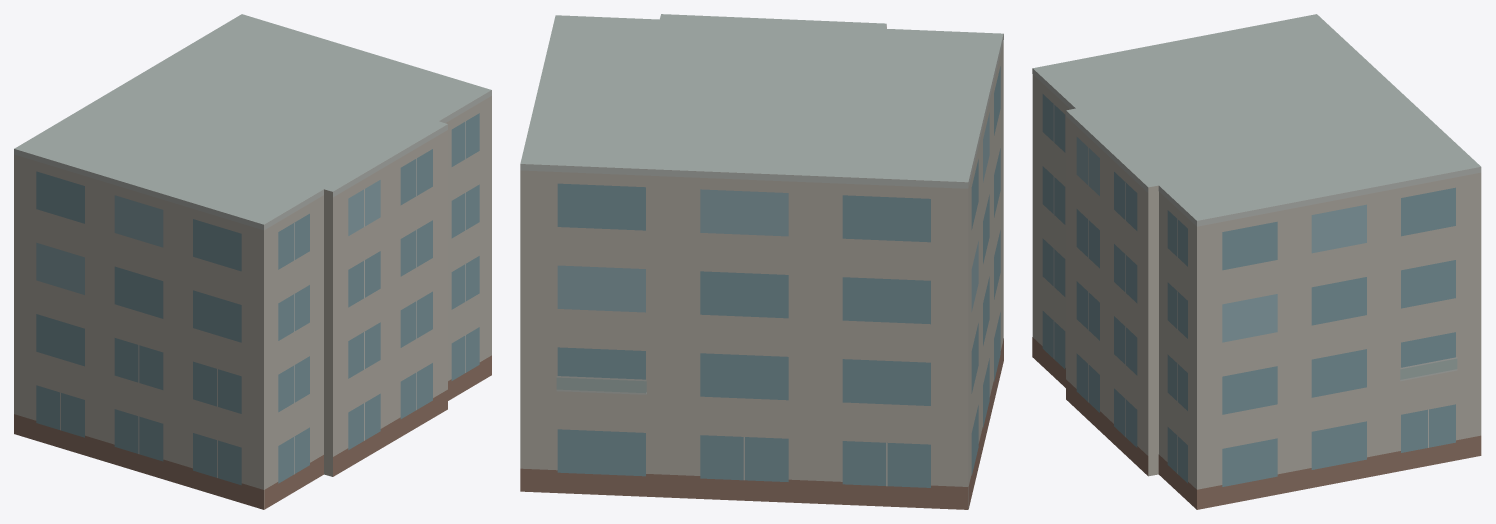
File: survey-upis-32741317.glb
The picture shows the model from 3 angles, left to right: view 1: azimuth 30°, elevation 25°; view 2: azimuth 150°, elevation 25°; view 3: azimuth 270°, elevation 25°; orthographic projection. The views are drawn at different scales.
Parts seen in each view (by area): view 1: survey-upis-32741317.tmp; view 2: survey-upis-32741317.tmp; view 3: survey-upis-32741317.tmp.
Boxes of the visible parts, x1,y1,x2,y2 form: survey-upis-32741317.tmp: [14, 14, 491, 509]; survey-upis-32741317.tmp: [520, 14, 1003, 509]; survey-upis-32741317.tmp: [1032, 14, 1481, 509].
Size of the model in its own units: 18.75 by 12.2 by 17.18.
